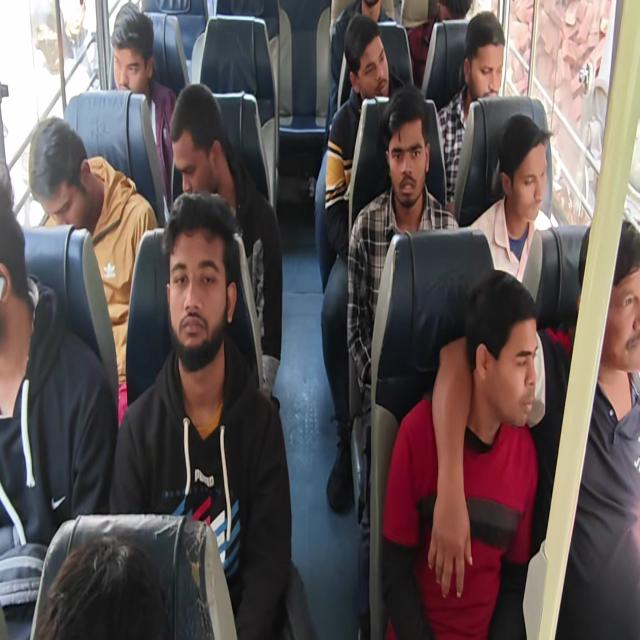person: (37, 528, 192, 640), (458, 261, 550, 447), (162, 196, 239, 388), (569, 215, 640, 399), (166, 77, 237, 204), (24, 118, 102, 230), (0, 159, 40, 351), (498, 112, 555, 233), (106, 5, 160, 109), (386, 91, 431, 212), (463, 8, 512, 118), (339, 18, 395, 107), (432, 0, 472, 31), (356, 0, 389, 27)
